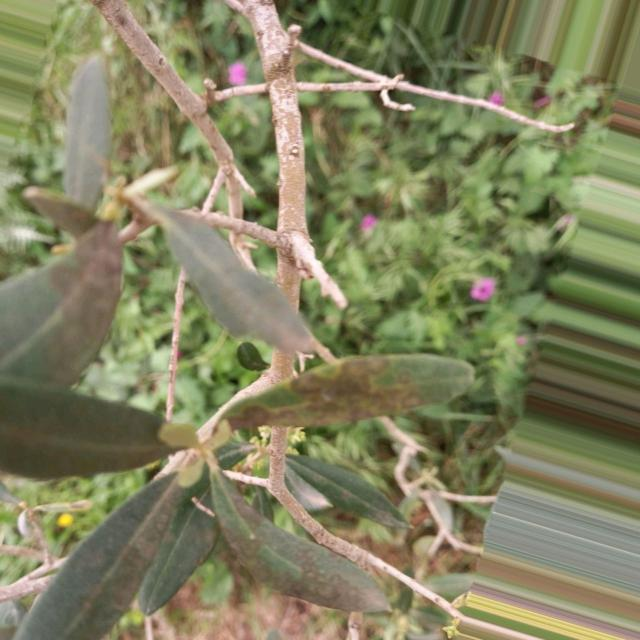Peacock Eye: (210, 467, 390, 613), (220, 354, 474, 430)
